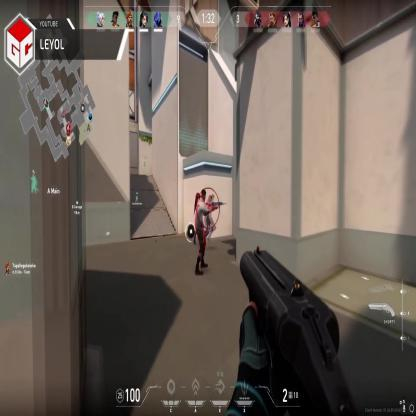enemy: (193, 186, 208, 280), (205, 188, 215, 248)
enemy_head: (201, 189, 206, 201), (209, 195, 214, 201)
